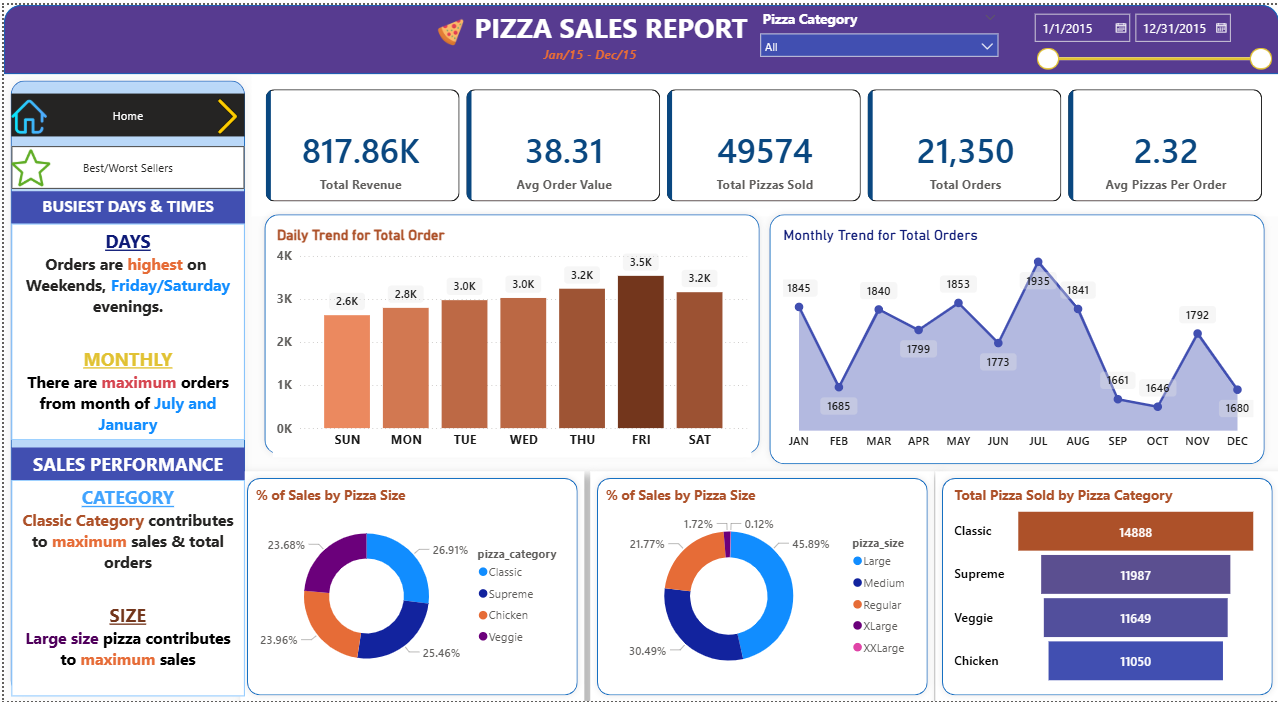

The page's visual inventory and layout, read from the dashboard file:
{"tool":"powerbi","page":{"name":"Home","canvas":[1500,820],"ordinal":0},"visuals":[{"type":"shape","box":[0,81.4,291.4,738.6],"z":0},{"type":"cardVisual","fields":{"Data":["pizza_sales.Total Revenue","pizza_sales.Avg Order Value","pizza_sales.Total Pizzas Sold","pizza_sales.Total Orders","pizza_sales.Avg Pizzas Per Order"]},"box":[291.7,81.7,1208.3,166.7],"z":1000},{"type":"shape","box":[0,0,1500,81.4],"z":2000},{"type":"textbox","box":[518.3,0,393.3,63.3],"z":3000},{"type":"textbox","box":[630,43.3,171.7,50],"z":4000},{"type":"image","box":[495,16.7,60,31.7],"z":5000},{"type":"shape","box":[893.3,238.3,598.3,310],"z":6000},{"type":"areaChart","title":"Monthly Trend for Total Orders","fields":{"Y":["pizza_sales.Total Orders"],"Category":["pizza_sales.Order Month"]},"box":[911.7,260,563.3,271.7],"z":7000},{"type":"shape","box":[278.3,548.3,405,271.7],"z":8000},{"type":"shape","box":[690,548.3,405,271.7],"z":9000},{"type":"shape","box":[1095,548.3,405,271.7],"z":10000},{"type":"donutChart","title":"% of Sales by Pizza Size","fields":{"Category":["pizza_sales.pizza_category"],"Y":["pizza_sales.Total Revenue"]},"box":[291.7,565,380,240],"z":11000},{"type":"donutChart","title":"% of Sales by Pizza Size","fields":{"Y":["pizza_sales.Total Revenue"],"Category":["pizza_sales.pizza_size"]},"box":[703.3,565,380,240],"z":12000},{"type":"funnel","title":"Total Pizza Sold by Pizza Category","fields":{"Category":["pizza_sales.pizza_category"],"Y":["pizza_sales.Total Pizzas Sold"]},"box":[1113.3,565,366.7,240],"z":13000},{"type":"textbox","box":[8.6,218.6,274.3,38.6],"z":14000},{"type":"textbox","box":[8.6,257.1,274.3,254.3],"z":15000},{"type":"textbox","box":[8.6,520,274.3,38.6],"z":16000},{"type":"textbox","box":[8.6,558.6,274.3,254.3],"z":17000},{"type":"slicer","fields":{"Values":["pizza_sales.pizza_category"]},"box":[880,0,300,81.7],"z":18000},{"type":"slicer","fields":{"Values":["pizza_sales.order_date"]},"box":[1200,0,300,81.7],"z":19000},{"type":"shape","box":[298.3,238.3,598.3,298.3],"z":20000},{"type":"columnChart","title":"Daily Trend for Total Order","fields":{"Y":["pizza_sales.Total Orders"],"Category":["pizza_sales.Order Day"]},"box":[316.7,260,563.3,271.7],"z":21000},{"type":"pageNavigator","box":[8.6,104.3,274.3,50],"z":22000},{"type":"pageNavigator","box":[8.6,165.7,274.3,50],"z":23000},{"type":"image","box":[8.6,97.1,41.4,68.6],"z":24000},{"type":"image","box":[8.6,145.7,45.7,91.4],"z":25000},{"type":"image","box":[228.6,110,70,41.4],"z":26000}]}

Visuals, with their boxes in screenshot pixels (x1, y1, x2, y2), scaled from the page's 1500x820 canvas onto the 1278x702 screenshot:
shape: x1=0 y1=70 x2=248 y2=701
cardVisual - pizza_sales.Total Revenue x pizza_sales.Avg Order Value: x1=249 y1=70 x2=1277 y2=213
shape: x1=0 y1=0 x2=1277 y2=70
textbox: x1=442 y1=0 x2=777 y2=54
textbox: x1=537 y1=37 x2=683 y2=80
image: x1=422 y1=14 x2=473 y2=41
shape: x1=761 y1=204 x2=1271 y2=469
"Monthly Trend for Total Orders" areaChart: x1=777 y1=223 x2=1257 y2=455
shape: x1=237 y1=469 x2=582 y2=701
shape: x1=588 y1=469 x2=933 y2=701
shape: x1=933 y1=469 x2=1277 y2=701
"% of Sales by Pizza Size" donutChart: x1=249 y1=484 x2=572 y2=689
"% of Sales by Pizza Size" donutChart: x1=599 y1=484 x2=923 y2=689
"Total Pizza Sold by Pizza Category" funnel: x1=949 y1=484 x2=1261 y2=689
textbox: x1=7 y1=187 x2=241 y2=220
textbox: x1=7 y1=220 x2=241 y2=438
textbox: x1=7 y1=445 x2=241 y2=478
textbox: x1=7 y1=478 x2=241 y2=696
slicer - pizza_sales.pizza_category: x1=750 y1=0 x2=1005 y2=70
slicer - pizza_sales.order_date: x1=1022 y1=0 x2=1277 y2=70
shape: x1=254 y1=204 x2=764 y2=459
"Daily Trend for Total Order" columnChart: x1=270 y1=223 x2=750 y2=455
pageNavigator: x1=7 y1=89 x2=241 y2=132
pageNavigator: x1=7 y1=142 x2=241 y2=185
image: x1=7 y1=83 x2=43 y2=142
image: x1=7 y1=125 x2=46 y2=203
image: x1=195 y1=94 x2=254 y2=130
